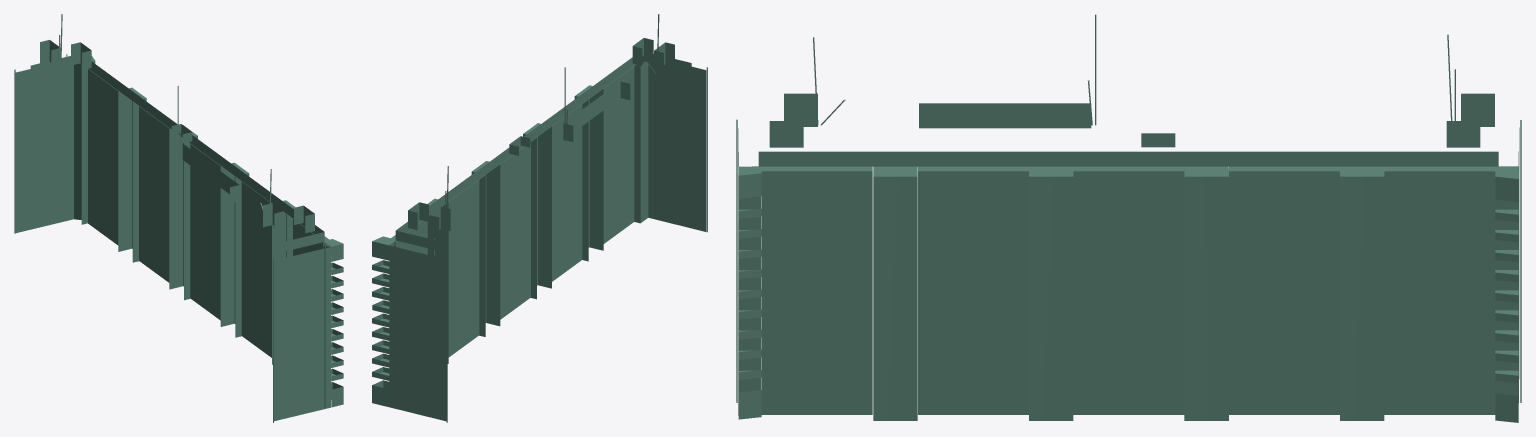
File: longbuild.fbx
The picture shows the model from 3 angles, left to right: view 1: azimuth 30°, elevation 25°; view 2: azimuth 150°, elevation 25°; view 3: azimuth 270°, elevation 25°; orthographic projection. The views are drawn at different scales.
Parts seen in each view (by area): view 1: longbuild_HL_ALEX:longbuild; view 2: longbuild_HL_ALEX:longbuild; view 3: longbuild_HL_ALEX:longbuild.
Part boxes in pixels (<box>): longbuild_HL_ALEX:longbuild: <box>14,14,343,422</box>; longbuild_HL_ALEX:longbuild: <box>372,14,707,422</box>; longbuild_HL_ALEX:longbuild: <box>736,14,1521,422</box>.
Bounding box in the file's own units: 10.86 × 33.55 × 64.4.
